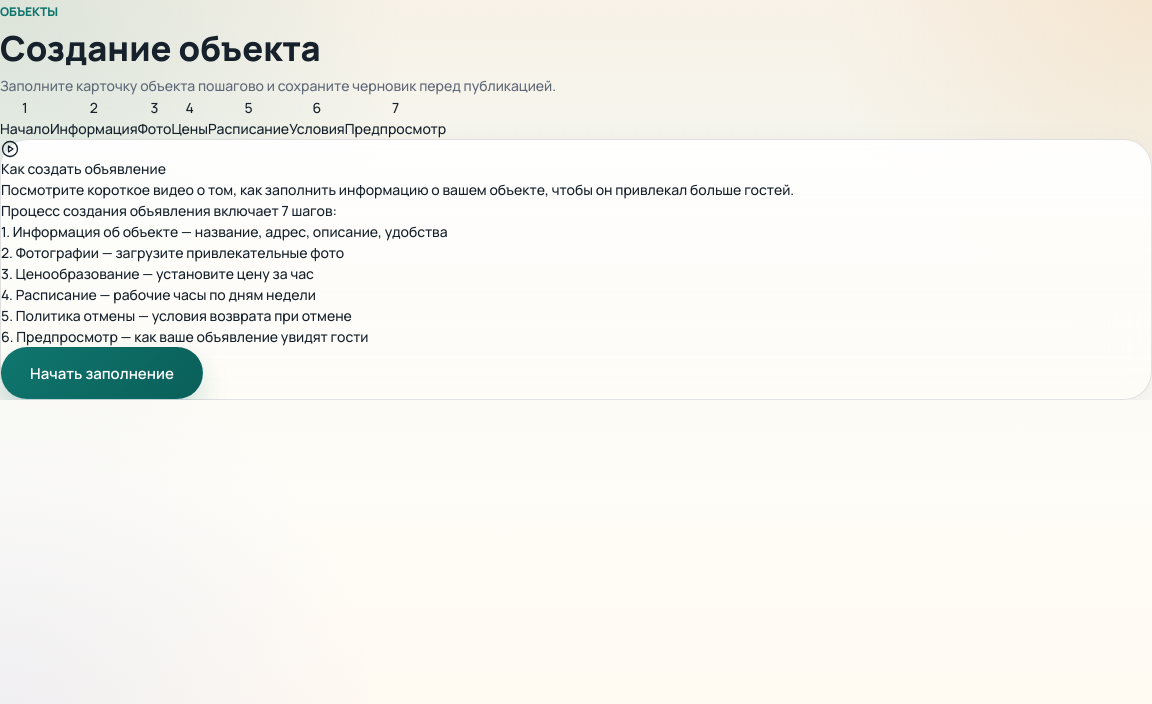
Test case: BathhouseForm › step navigation › navigates forward through steps
The image size is (1152, 704).
Step 1. Click the button "Начать заполнение" → (102, 373), box [1,347,203,399]
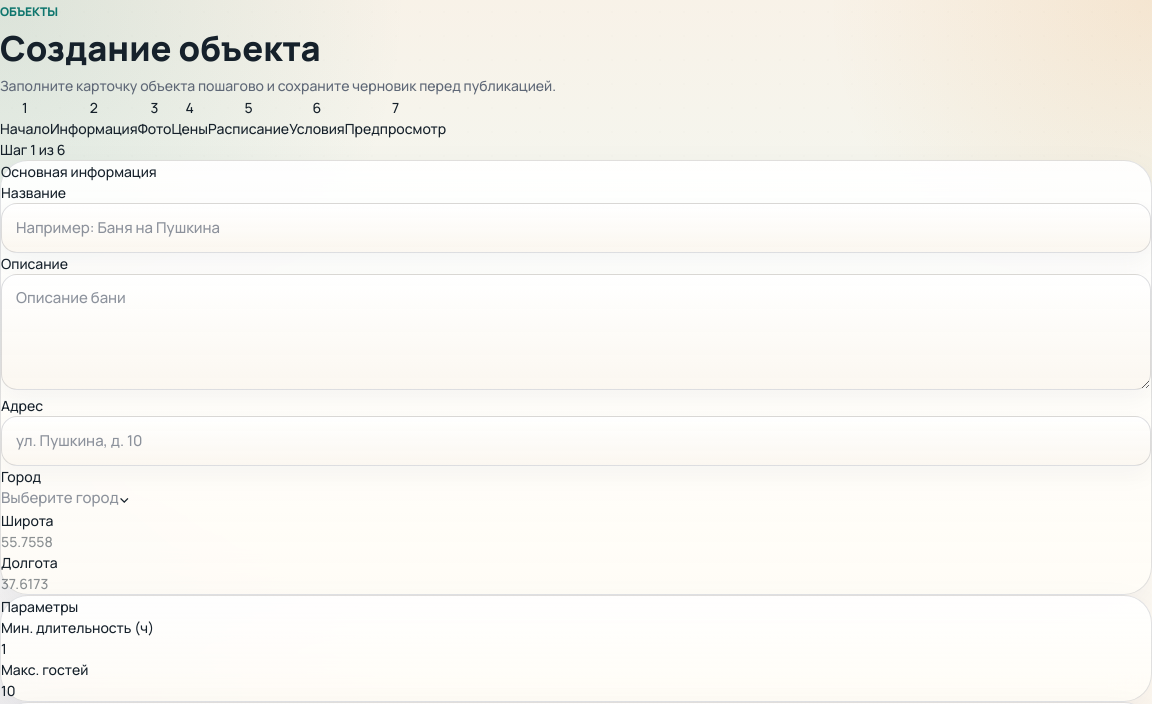
Expected: the text "Основная информация" is shown, [1,162,157,181]
